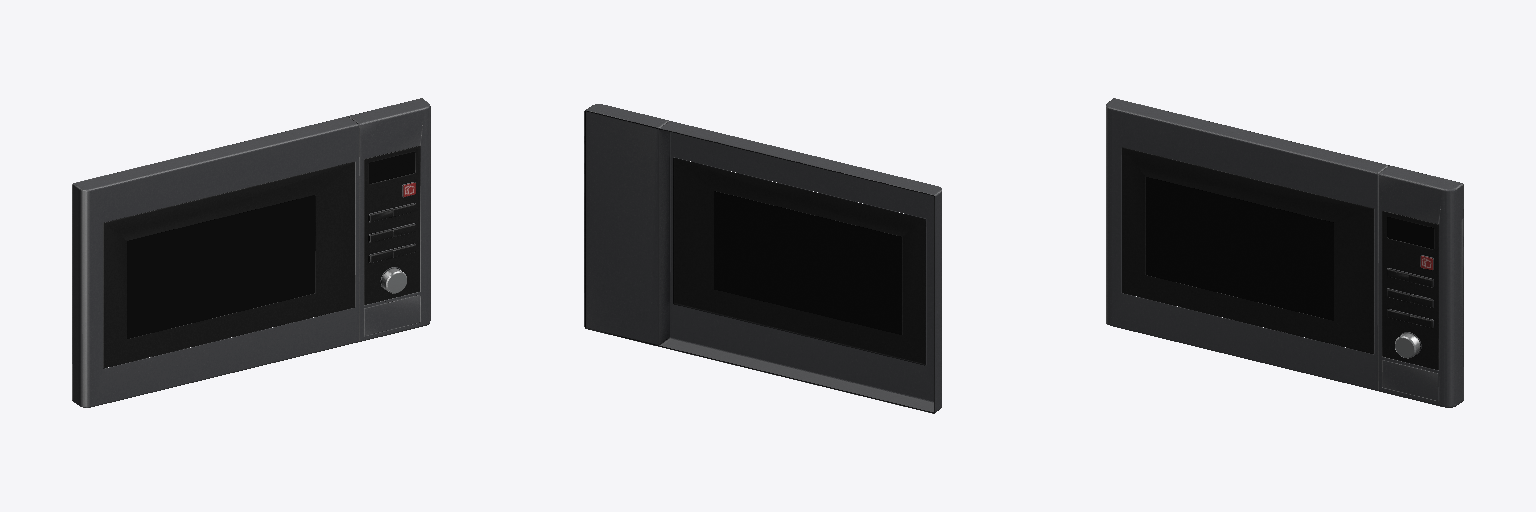
3 renders of one model, left to right at view 1: azimuth 30°, elevation 25°; view 2: azimuth 150°, elevation 25°; view 3: azimuth 330°, elevation 25°, orthographic.
Visible parts, largest first — view 1: solid_003, solid_001, solid_002, glass_001; view 2: solid_003, solid_001, solid_002; view 3: solid_003, solid_001, solid_002, glass_001.
Boxes of the visible parts, x1,y1,x2,y2 form: solid_003: [72, 98, 430, 407]; solid_001: [103, 146, 419, 368]; solid_002: [127, 195, 314, 338]; glass_001: [369, 152, 414, 183]; solid_003: [584, 104, 941, 413]; solid_001: [673, 158, 925, 365]; solid_002: [714, 191, 901, 334]; solid_003: [1106, 98, 1463, 407]; solid_001: [1122, 147, 1438, 369]; solid_002: [1146, 177, 1333, 320]; glass_001: [1387, 217, 1433, 248].
Size of the model in its own units: 1.82 by 1.09 by 0.1501.
Materials: 1 (1 with a texture image).